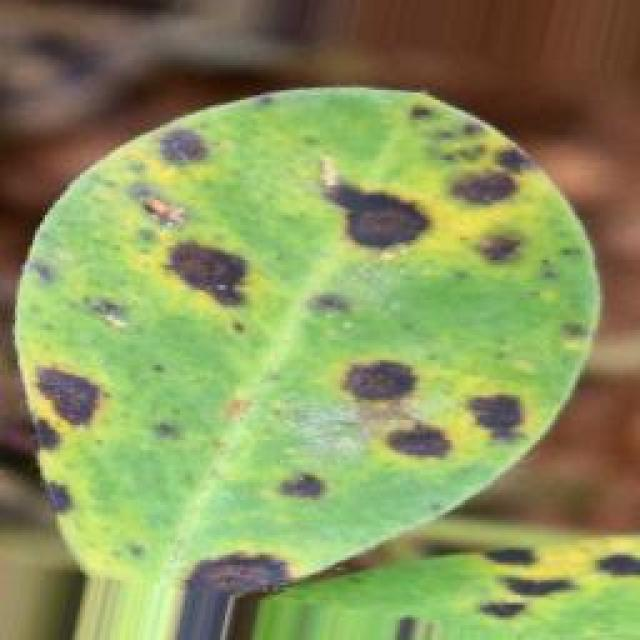Yellowish: (45, 80, 565, 525), (426, 506, 640, 623)
